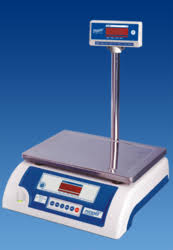Industrial Scale: (1, 20, 172, 240)
